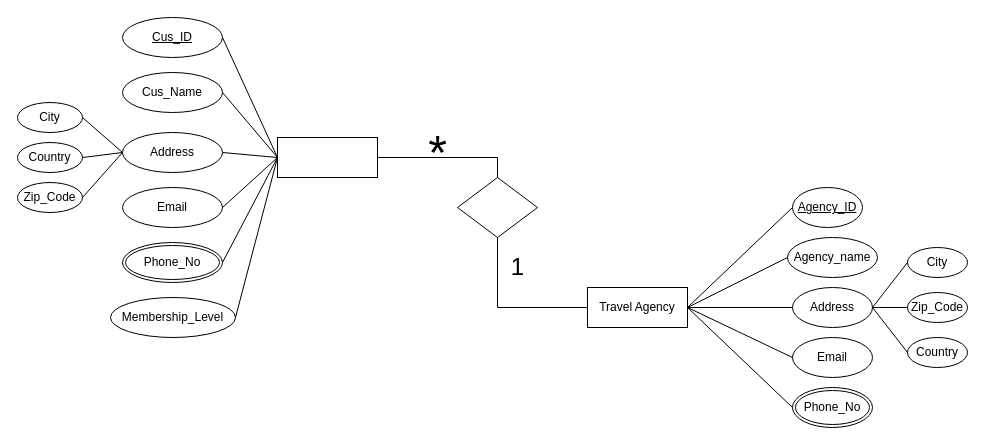
Image size: 985x445. Some labels were removed from this diagram. Each missing label, with the box of its shape:
Customer: (276, 136, 378, 178)
Services: (456, 176, 538, 238)
